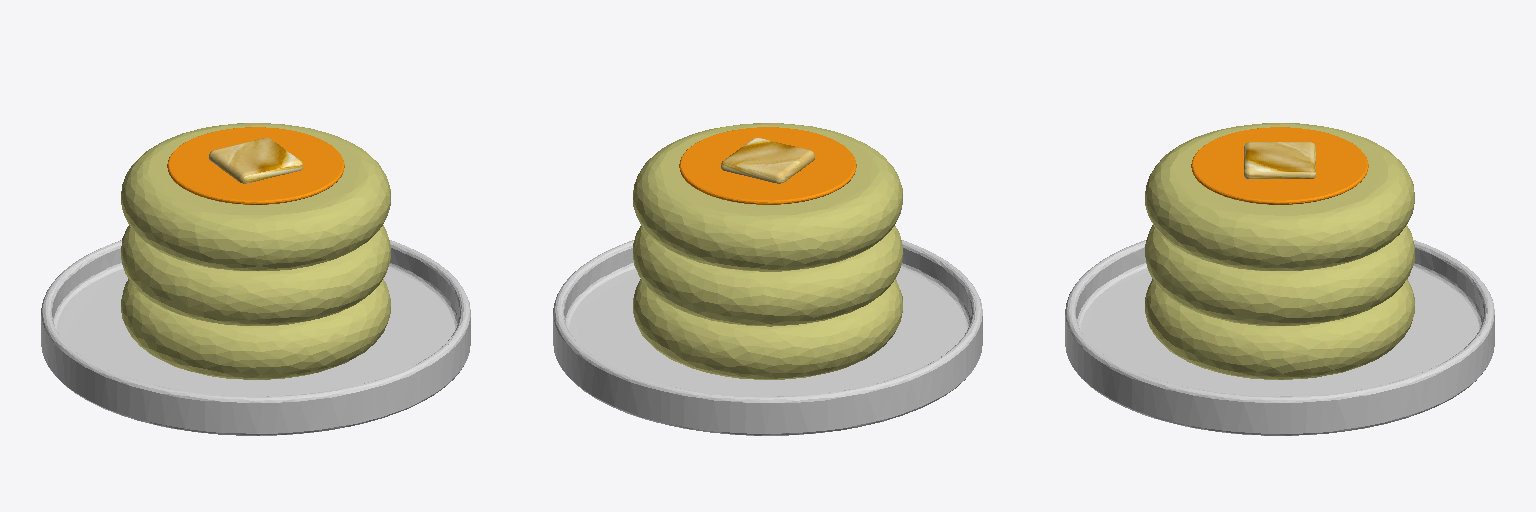
3 views of the same model, side by side, from view 1: azimuth 30°, elevation 25°; view 2: azimuth 150°, elevation 25°; view 3: azimuth 270°, elevation 25° (orthographic).
Visible parts, largest first — view 1: Círculo.003, Círculo.005, Círculo.004, Círculo.002, Círculo.007, Círculo.006; view 2: Círculo.003, Círculo.005, Círculo.004, Círculo.002, Círculo.007, Círculo.006; view 3: Círculo.003, Círculo.005, Círculo.004, Círculo.002, Círculo.007, Círculo.006.
Part boxes in pixels (left/top/right/bottom): Círculo.003: left=41, top=240, right=470, bottom=435; Círculo.005: left=121, top=123, right=390, bottom=270; Círculo.004: left=121, top=225, right=390, bottom=325; Círculo.002: left=121, top=279, right=390, bottom=379; Círculo.007: left=167, top=127, right=344, bottom=204; Círculo.006: left=209, top=138, right=302, bottom=183; Círculo.003: left=553, top=240, right=982, bottom=435; Círculo.005: left=633, top=123, right=902, bottom=271; Círculo.004: left=633, top=226, right=902, bottom=326; Círculo.002: left=633, top=279, right=902, bottom=379; Círculo.007: left=679, top=127, right=856, bottom=204; Círculo.006: left=721, top=138, right=814, bottom=183; Círculo.003: left=1065, top=240, right=1494, bottom=435; Círculo.005: left=1145, top=123, right=1414, bottom=270; Círculo.004: left=1145, top=225, right=1414, bottom=325; Círculo.002: left=1145, top=279, right=1414, bottom=379; Círculo.007: left=1191, top=127, right=1368, bottom=204; Círculo.006: left=1244, top=142, right=1315, bottom=178.
Size of the model in its own units: 1.99 by 1.03 by 1.99.
Materials: 6 (4 with a texture image).